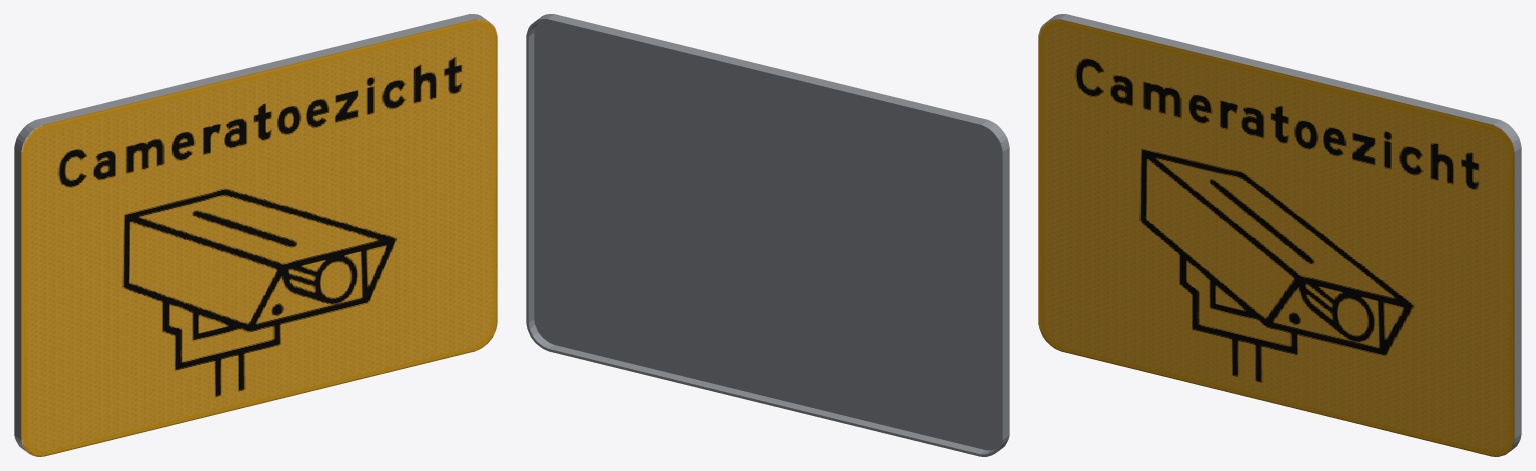
3 renders of one model, left to right at view 1: azimuth 30°, elevation 25°; view 2: azimuth 150°, elevation 25°; view 3: azimuth 330°, elevation 25°, orthographic.
Visible parts, largest first — view 1: cat_b2ca22aadea95c37; view 2: cat_b2ca22aadea95c37; view 3: cat_b2ca22aadea95c37.
Boxes of the visible parts, bbox=[...] form: cat_b2ca22aadea95c37: bbox=[14, 14, 497, 456]; cat_b2ca22aadea95c37: bbox=[526, 14, 1009, 456]; cat_b2ca22aadea95c37: bbox=[1038, 14, 1521, 456].
Bounding box in the file's own units: 0.6 × 0.015 × 0.3995.
2 materials, 1 textured.
